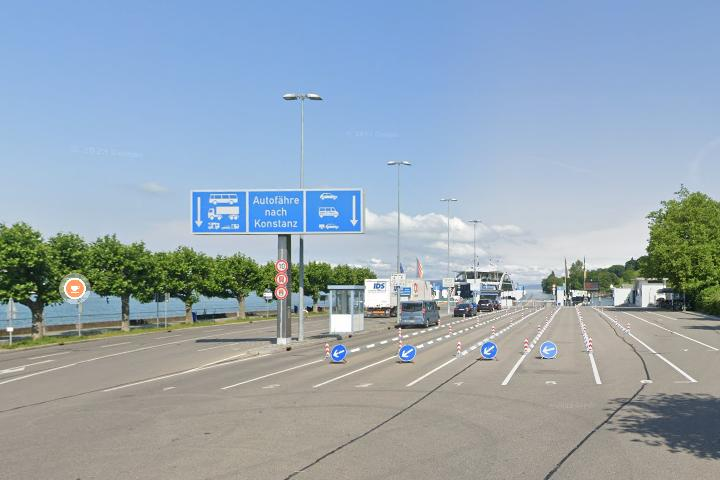google_maps: (63, 277, 88, 300)
traffic_sign: (540, 339, 558, 358), (399, 343, 415, 361), (481, 342, 497, 359), (331, 345, 347, 361), (275, 258, 289, 272)
vehicle: (396, 298, 444, 329), (452, 301, 478, 319), (475, 297, 494, 313)
